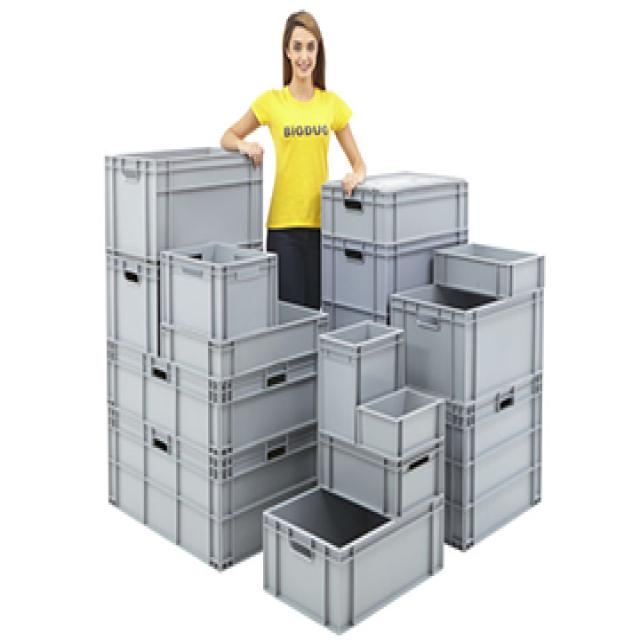basket: (387, 243, 546, 550), (98, 408, 321, 576), (265, 488, 444, 632), (154, 279, 337, 394), (105, 146, 263, 261), (145, 353, 321, 452), (429, 449, 558, 558), (323, 233, 469, 328), (161, 242, 278, 341), (320, 173, 471, 247), (316, 435, 447, 520), (347, 374, 460, 471), (320, 320, 405, 442), (106, 254, 160, 354), (105, 341, 147, 418)
